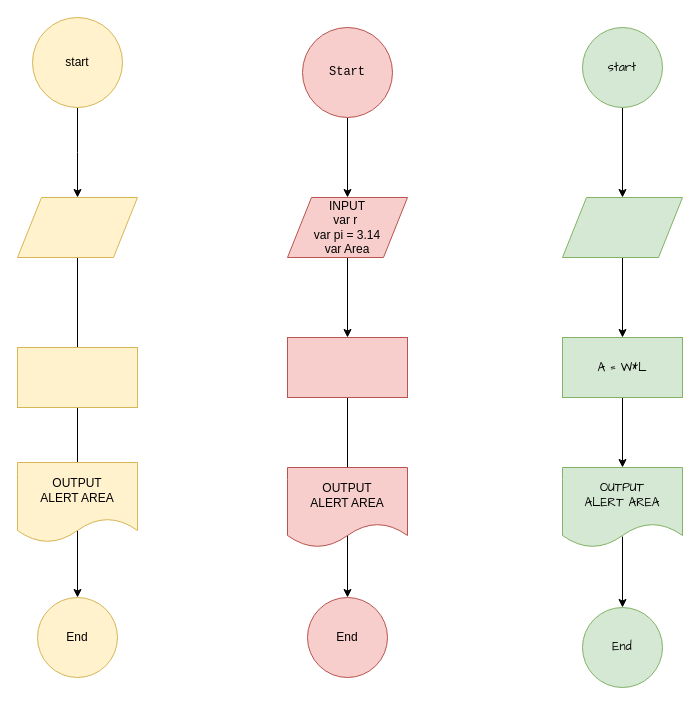
The diagram is 700 pixels wide and 705 high, and some of its shapes have lost their labels. The shapes that lost their labels are listed below. From the top down, each one's centre as x and y in pixels, then its label:
At [77,227]: "var H var B var Area".
At [622,227]: "INPUT var W var L var Area".
At [77,377]: "A=h*b/2".
At [347,367]: "A = pi*r^2".
